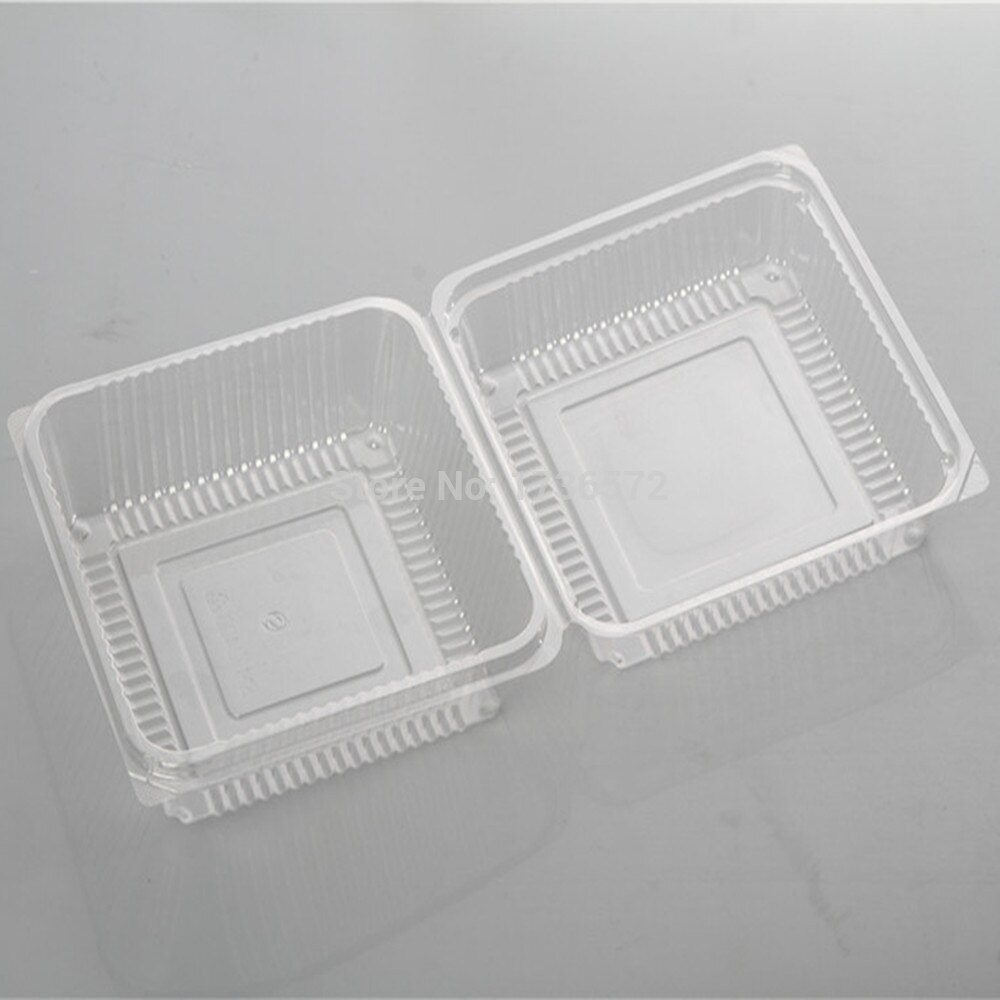PlasticBox: (1, 138, 1000, 832)
